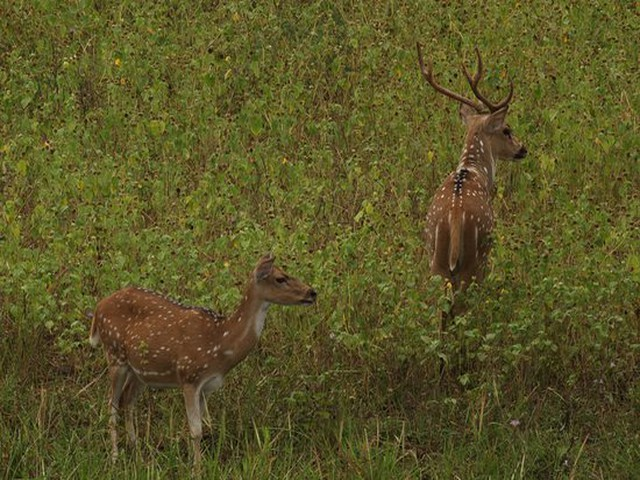deer: (87, 249, 318, 471), (412, 37, 533, 310)
